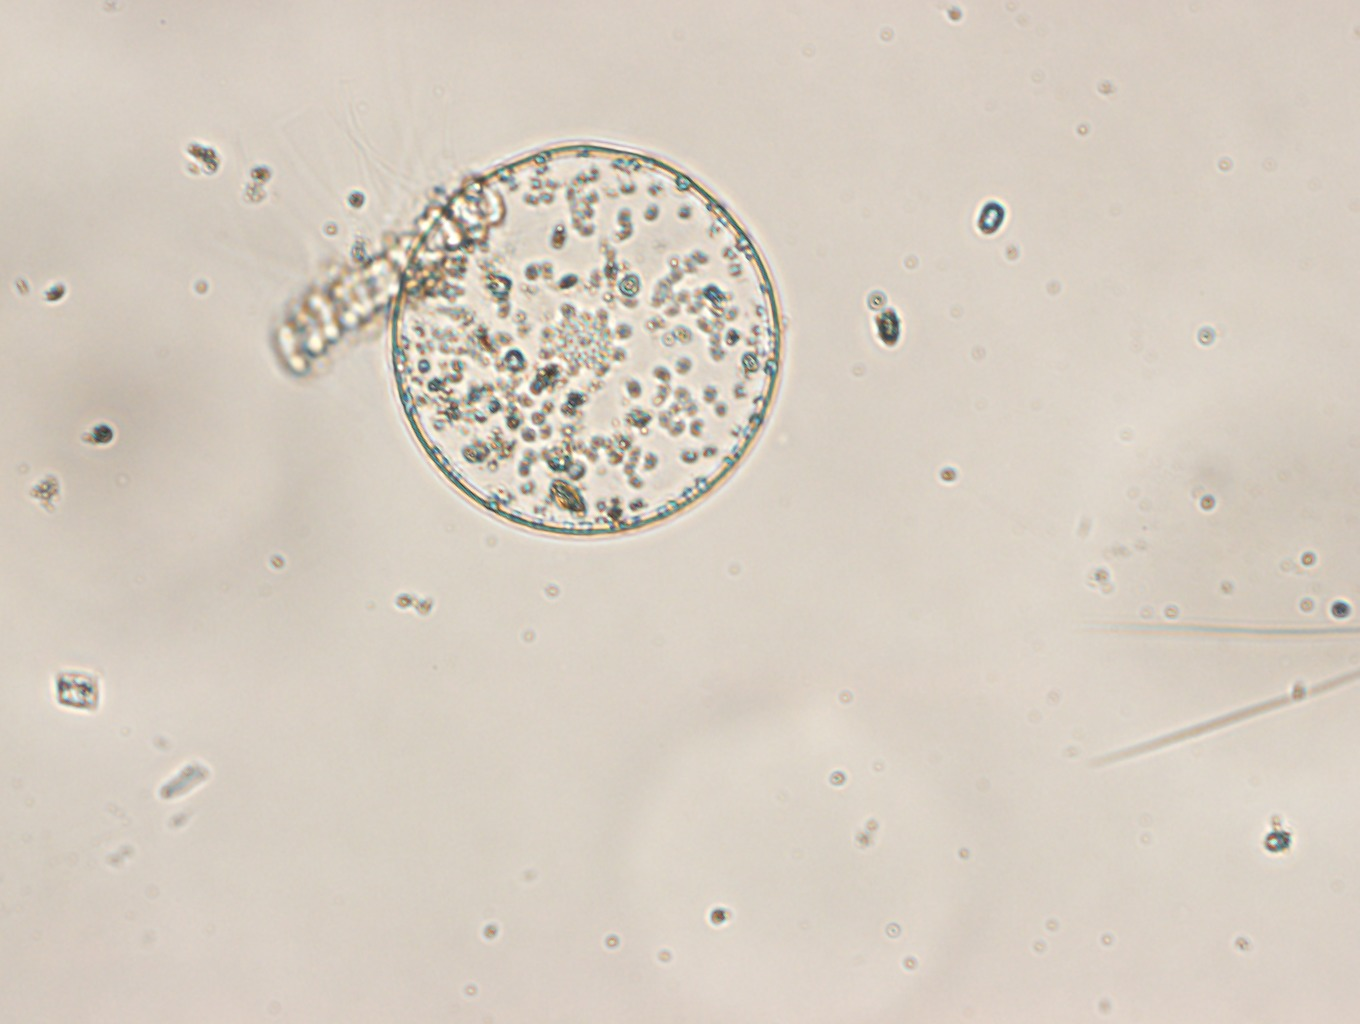coscinodiscus: (387, 142, 784, 539)
